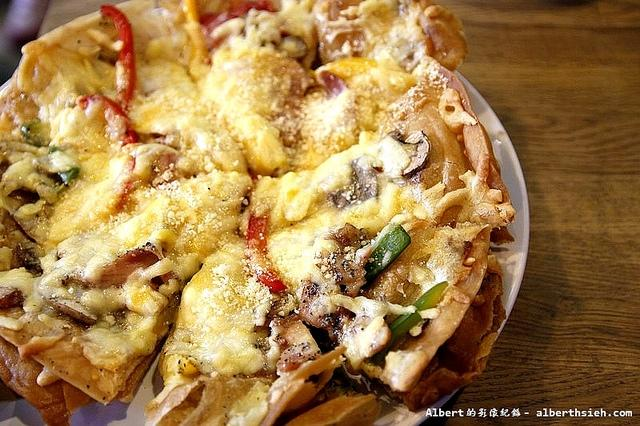mushroom: (65, 249, 158, 289), (0, 206, 46, 276), (330, 160, 380, 208), (44, 296, 98, 326), (332, 254, 368, 298), (402, 131, 432, 178), (278, 36, 308, 58), (0, 284, 23, 310)
